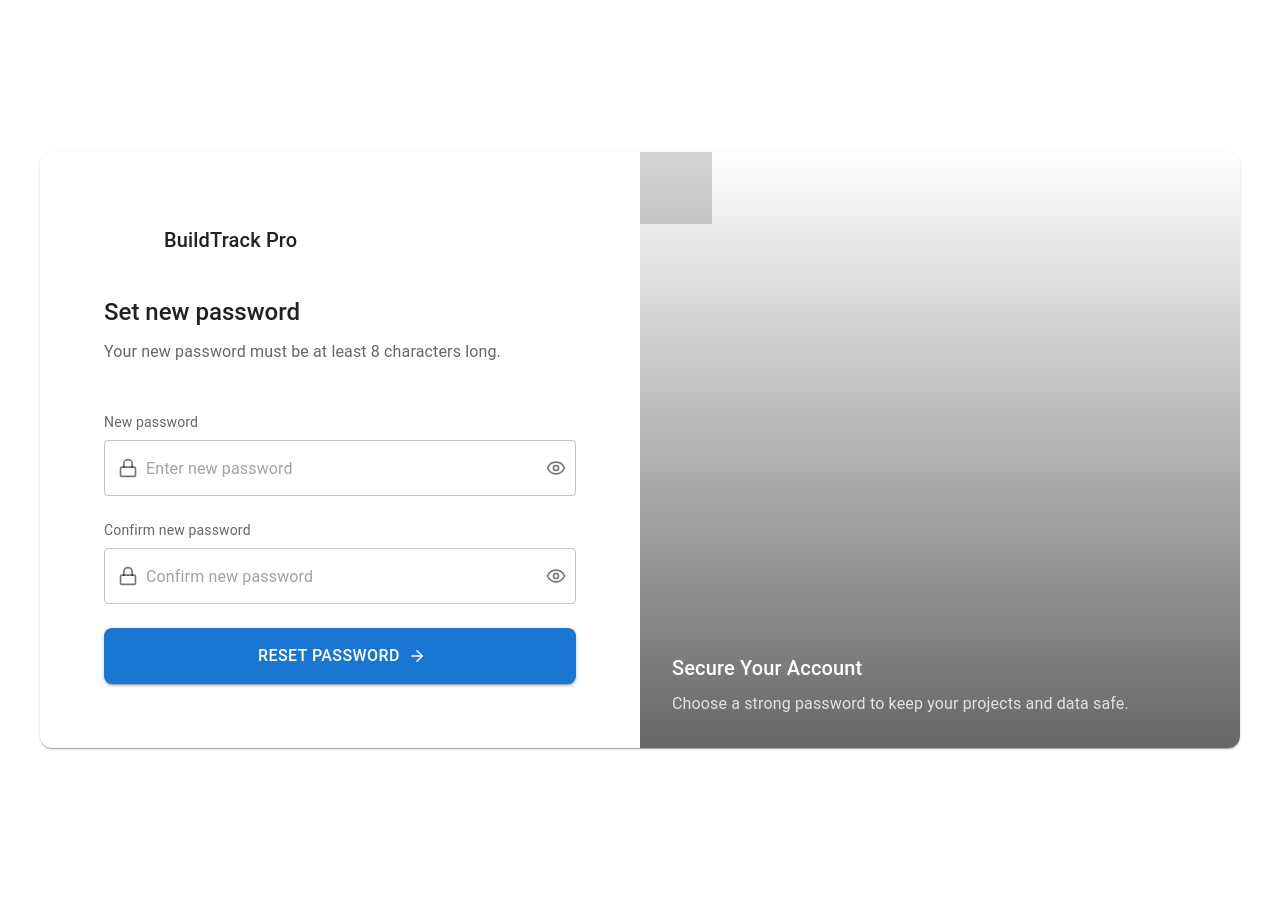
ResetPasswordPage › shows error when passwords don't match
The width and height of the screenshot is (1280, 900).
In the password field labelled "Enter new password": (338, 468) 146,440 -> 530,496, type "password123"
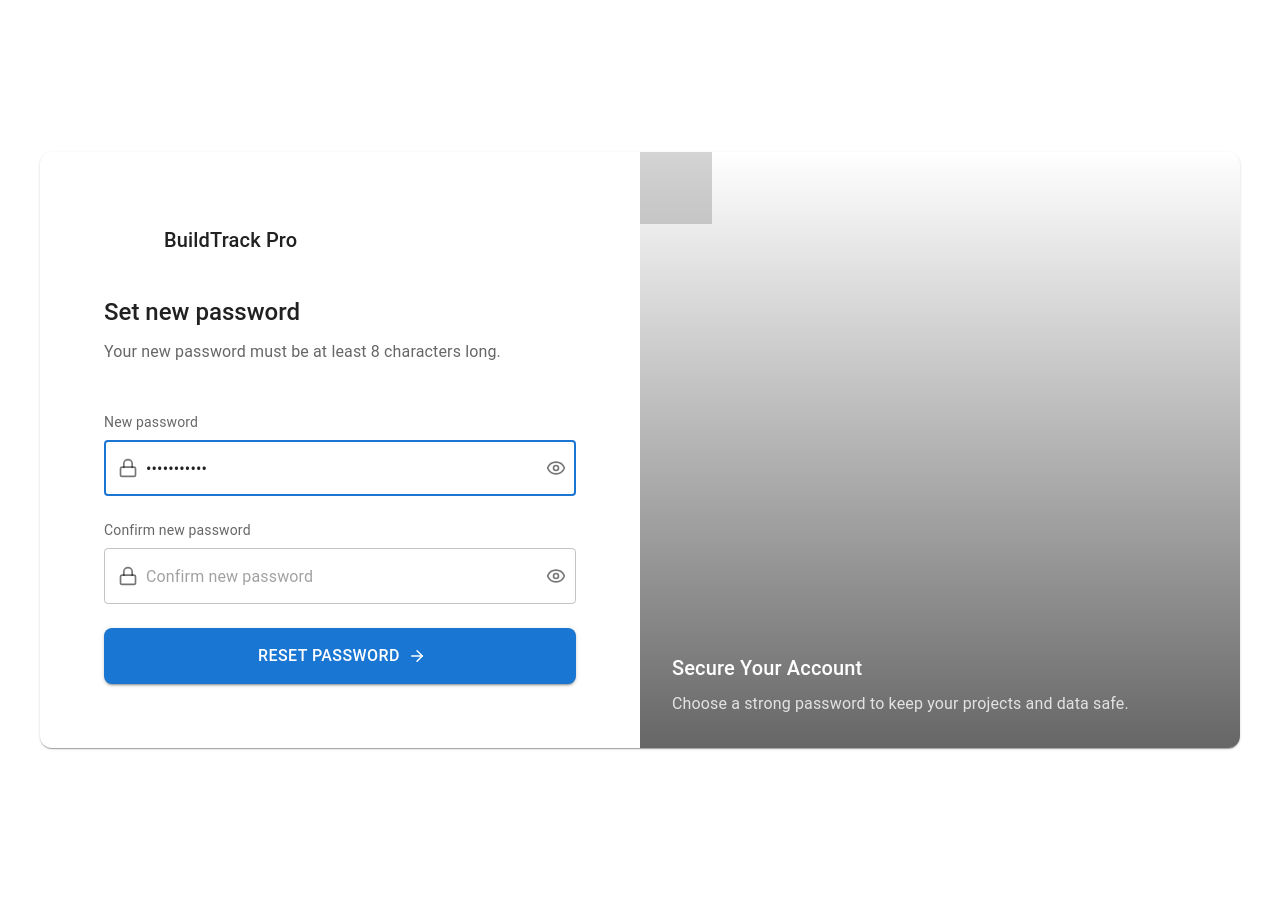
In the password field labelled "Confirm new password": (338, 576) 146,548 -> 530,604, type "different456"
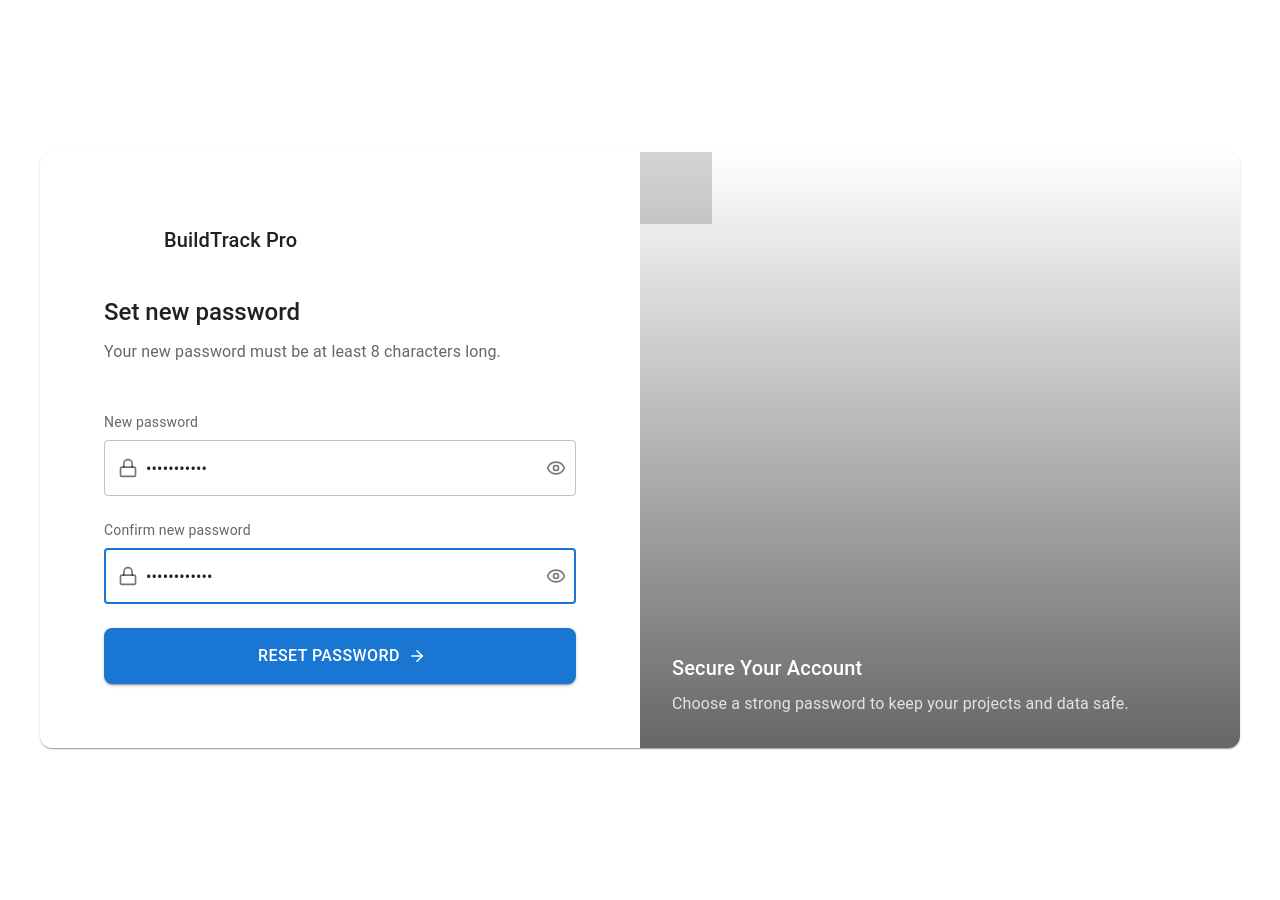
Click the button "Reset password": (340, 656) 104,628 -> 576,684
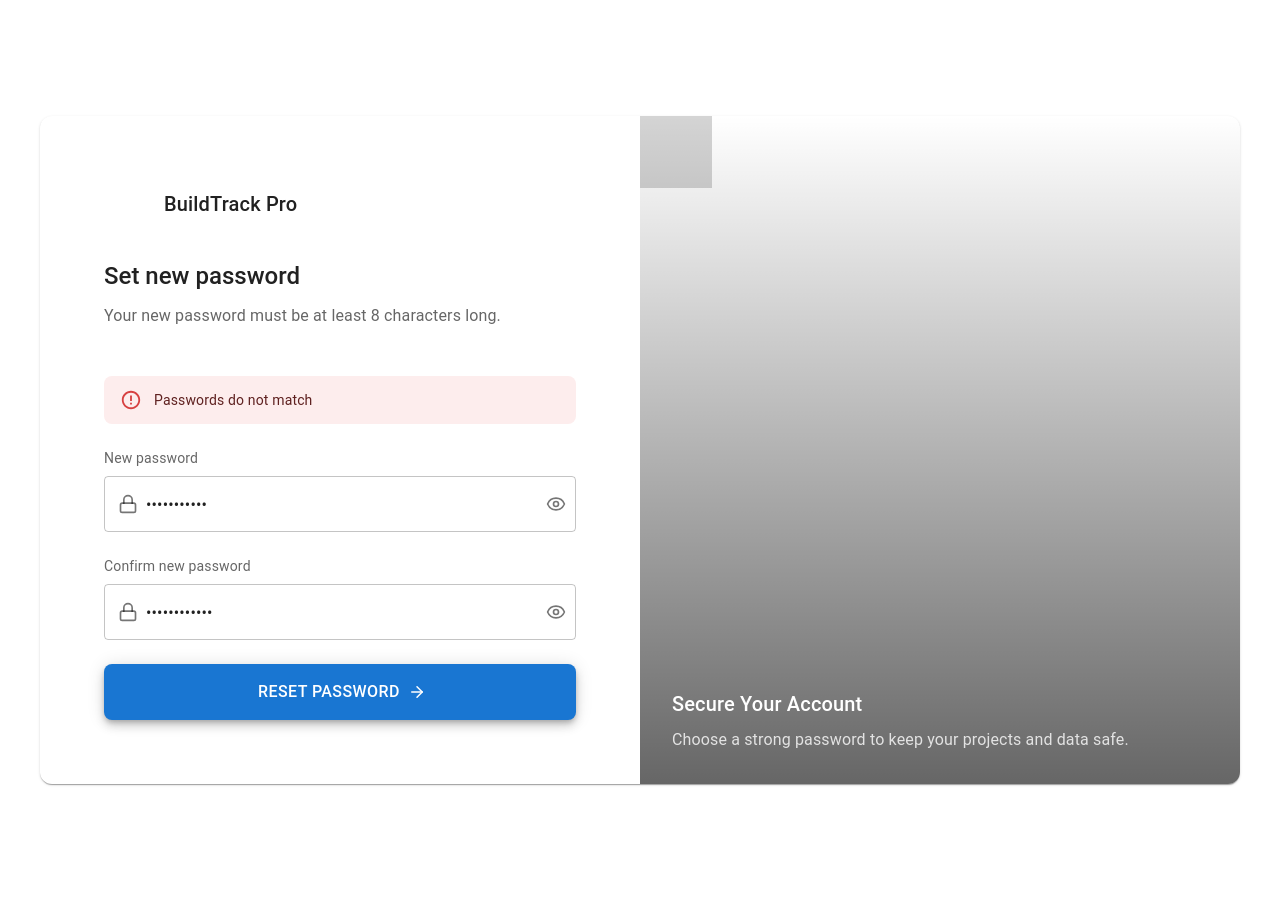
Result: the text "Passwords do not match" is shown at 154,392 -> 312,408
